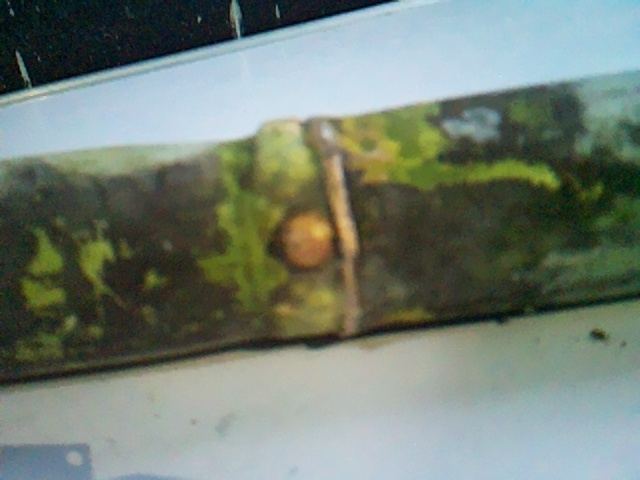Good Sugarcane: (0, 58, 637, 386)
Node: (205, 108, 398, 344)
